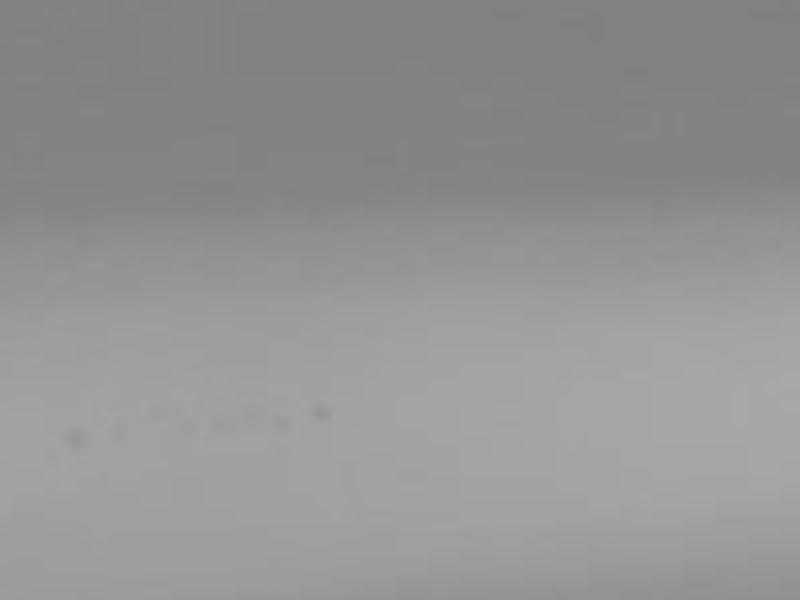defect: (209, 415, 232, 438), (311, 403, 334, 425), (70, 428, 90, 449), (271, 416, 291, 435), (112, 427, 132, 445)
